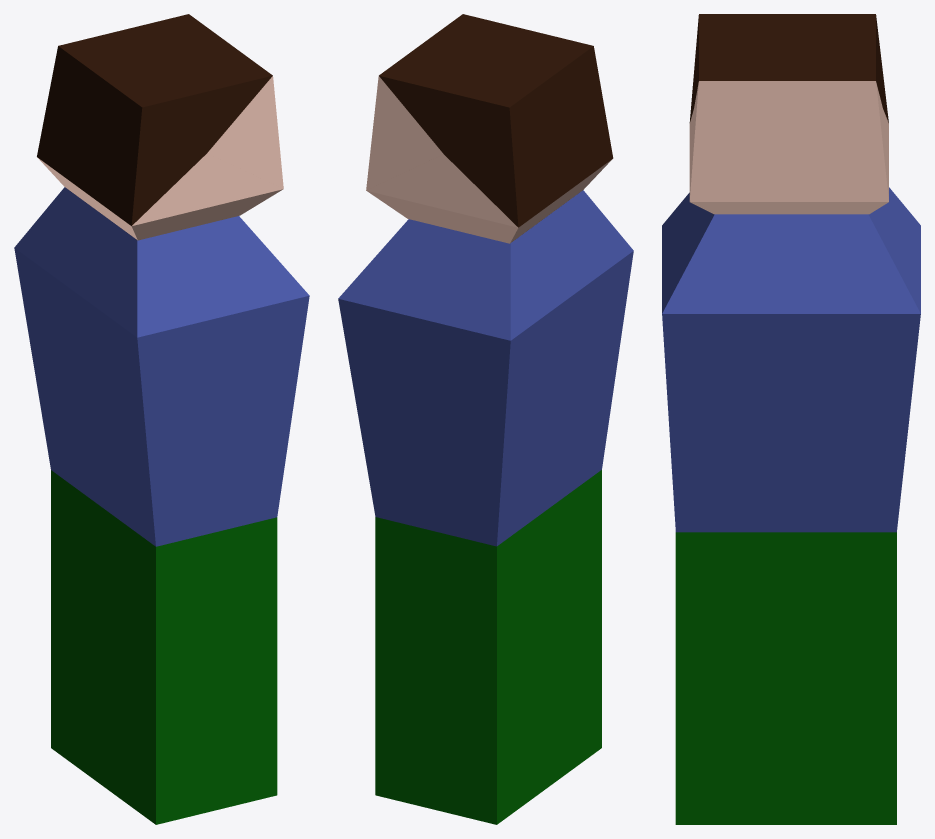
Rendered from person1.gltf.
3 views of the same model, side by side, from view 1: azimuth 30°, elevation 25°; view 2: azimuth 150°, elevation 25°; view 3: azimuth 270°, elevation 25° (orthographic). The views are drawn at different scales.
Parts seen in each view (by area): view 1: person1; view 2: person1; view 3: person1.
Part boxes in pixels (x1,y1,x2,y2): person1: [14, 14, 309, 824]; person1: [338, 14, 633, 824]; person1: [662, 14, 920, 824].
Bounding box in the file's own units: 0.5687 × 2.24 × 0.7027.
1 material, 1 textured.
